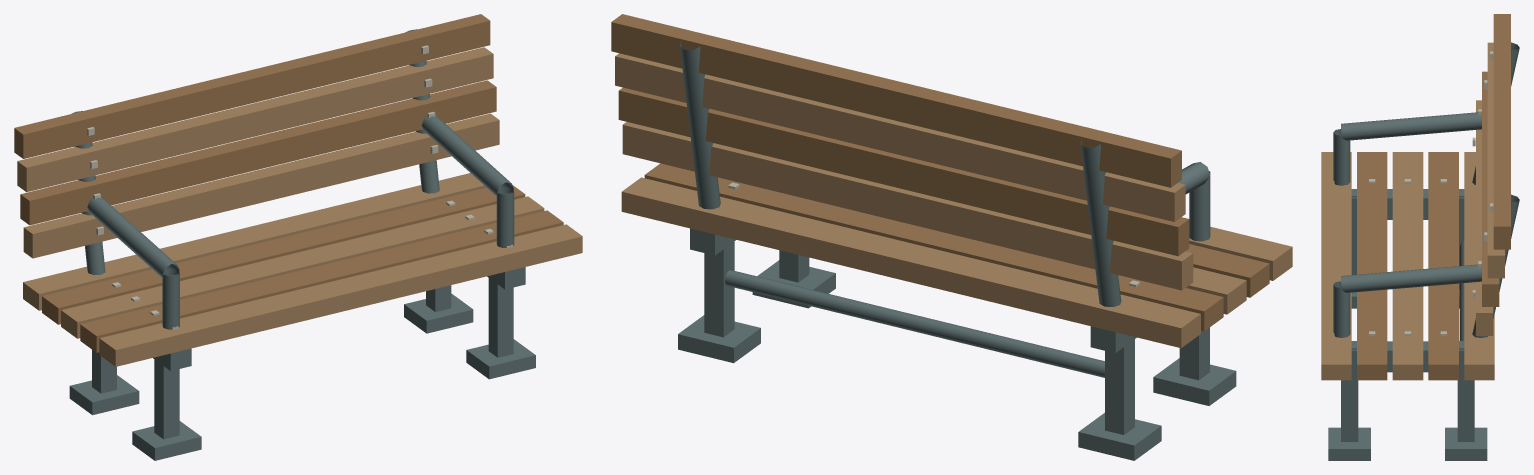
Rendered from bench.glb.
The picture shows the model from 3 angles, left to right: view 1: azimuth 30°, elevation 25°; view 2: azimuth 150°, elevation 25°; view 3: azimuth 270°, elevation 25°; orthographic projection. The views are drawn at different scales.
Visible parts, largest first — view 1: korean-facade-parts-a68660, korean-facade-parts-987650, korean-facade-parts-627475, korean-facade-parts-c0beb0; view 2: korean-facade-parts-a68660, korean-facade-parts-987650, korean-facade-parts-627475; view 3: korean-facade-parts-a68660, korean-facade-parts-987650, korean-facade-parts-627475, korean-facade-parts-c0beb0.
Part boxes in pixels (x1=…): korean-facade-parts-a68660: x1=17, y1=47, x2=582, y2=366; korean-facade-parts-987650: x1=14, y1=14, x2=563, y2=352; korean-facade-parts-627475: x1=69, y1=29, x2=535, y2=460; korean-facade-parts-c0beb0: x1=87, y1=45, x2=512, y2=329; korean-facade-parts-a68660: x1=615, y1=53, x2=1292, y2=348; korean-facade-parts-987650: x1=611, y1=14, x2=1269, y2=331; korean-facade-parts-627475: x1=678, y1=41, x2=1236, y2=460; korean-facade-parts-a68660: x1=1321, y1=42, x2=1504, y2=380; korean-facade-parts-987650: x1=1357, y1=14, x2=1510, y2=380; korean-facade-parts-627475: x1=1328, y1=42, x2=1519, y2=460; korean-facade-parts-c0beb0: x1=1333, y1=51, x2=1493, y2=335.
Bounding box in the file's own units: 1.9 × 1.06 × 0.7499.
